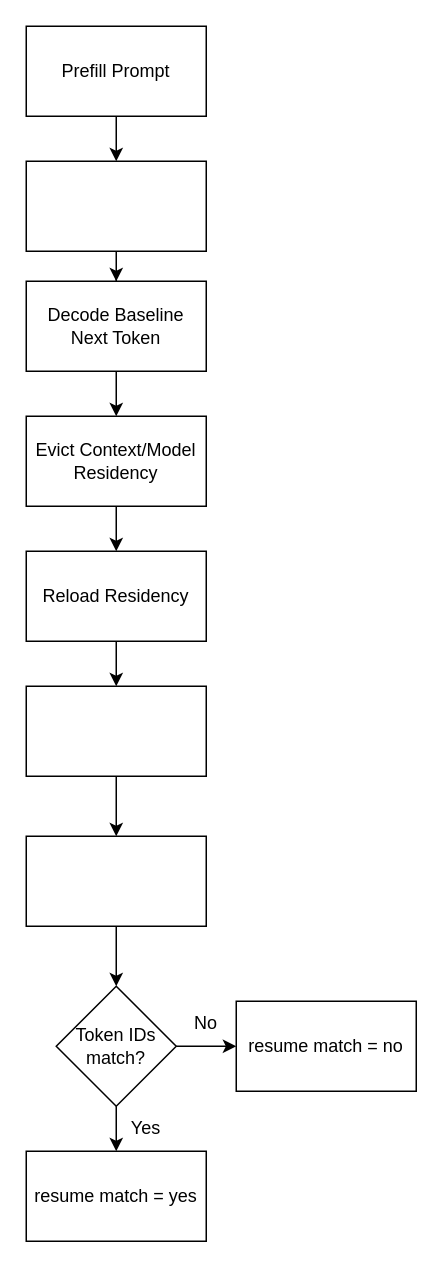
Some shapes in this 443 by 1268 pixel diagram are drawn without their labels. The shapes that lost their labels are listed below. From the top down, each one's centre as x and y in pixels, then its label:
(x=115, y=205): Save State
(x=115, y=730): Restore Saved State
(x=115, y=880): Decode Restored Next Token
